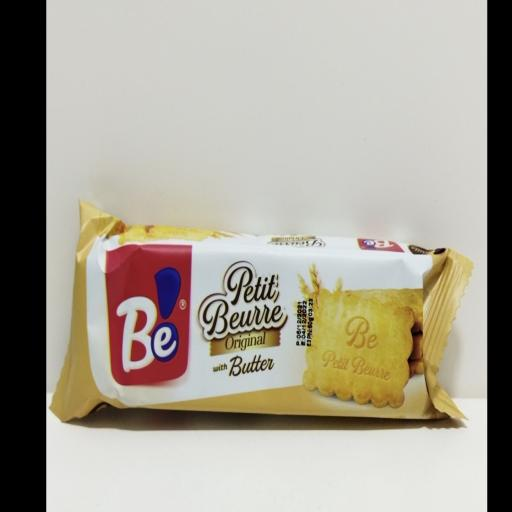petit-beurre: (56, 166, 468, 472)
